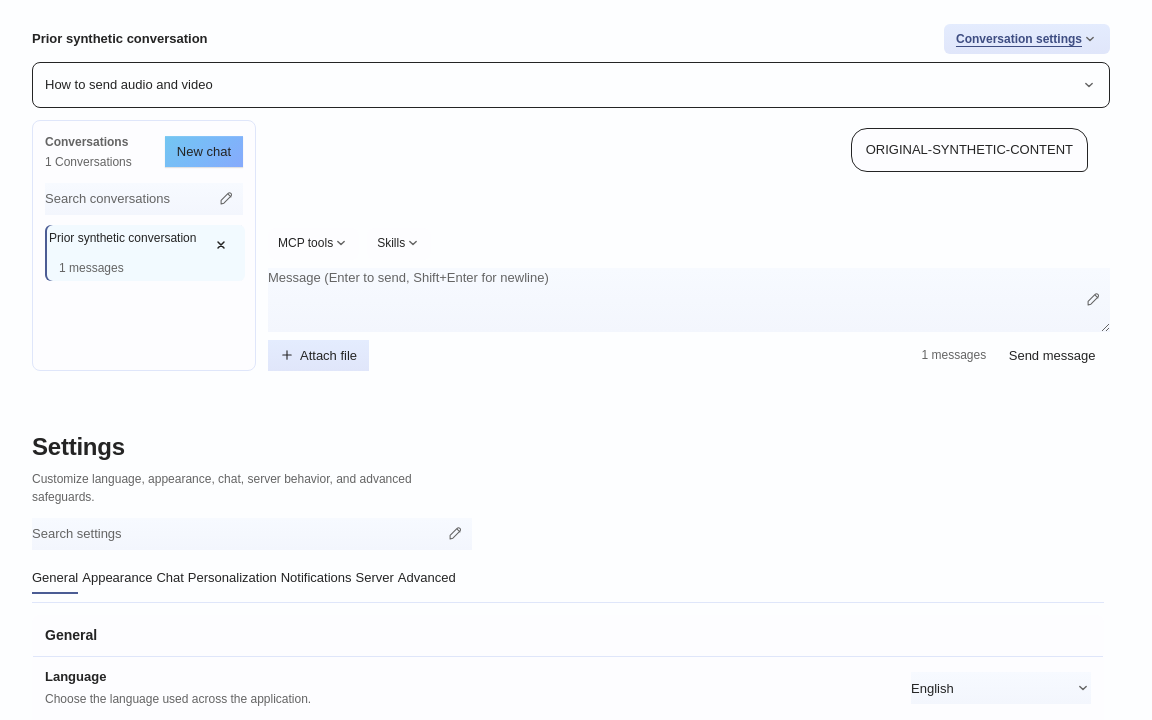
it: waits for an older pending save before removing every persisted copy
What coordinates should you click on to do the following:
click the tab "Advanced"
I would click on:
 (427, 578)
Its box is [398, 562, 456, 594].
(page scrolled)
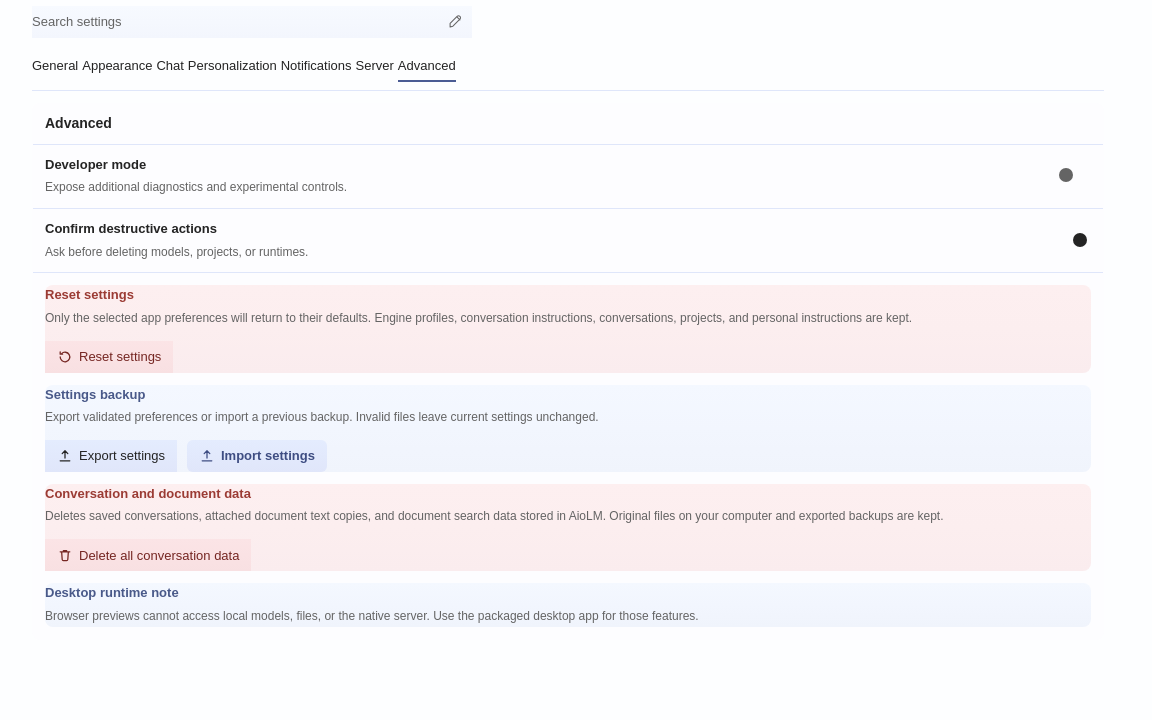
What coordinates should you click on to do the following:
click the button "Delete all conversation data"
I would click on:
 (148, 555)
Its box is [45, 539, 251, 571].
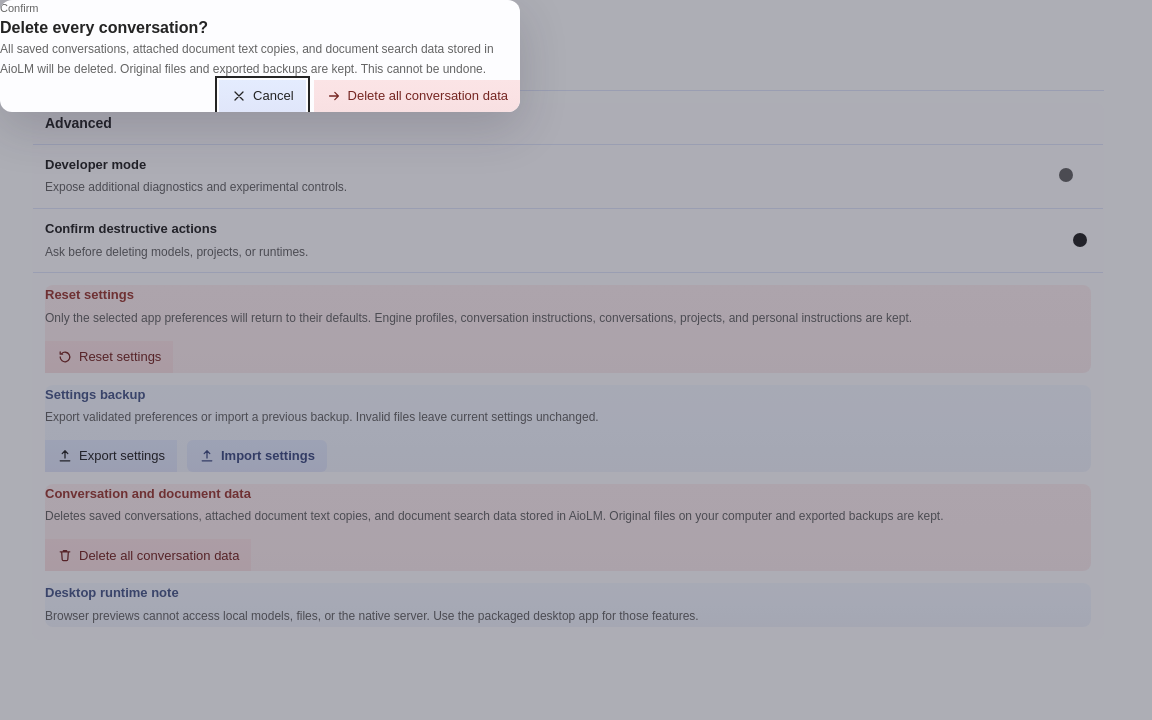
What coordinates should you click on to do the following:
click the button "Delete all conversation data"
I would click on:
 (417, 96)
Its box is [314, 80, 520, 112].
(page scrolled)
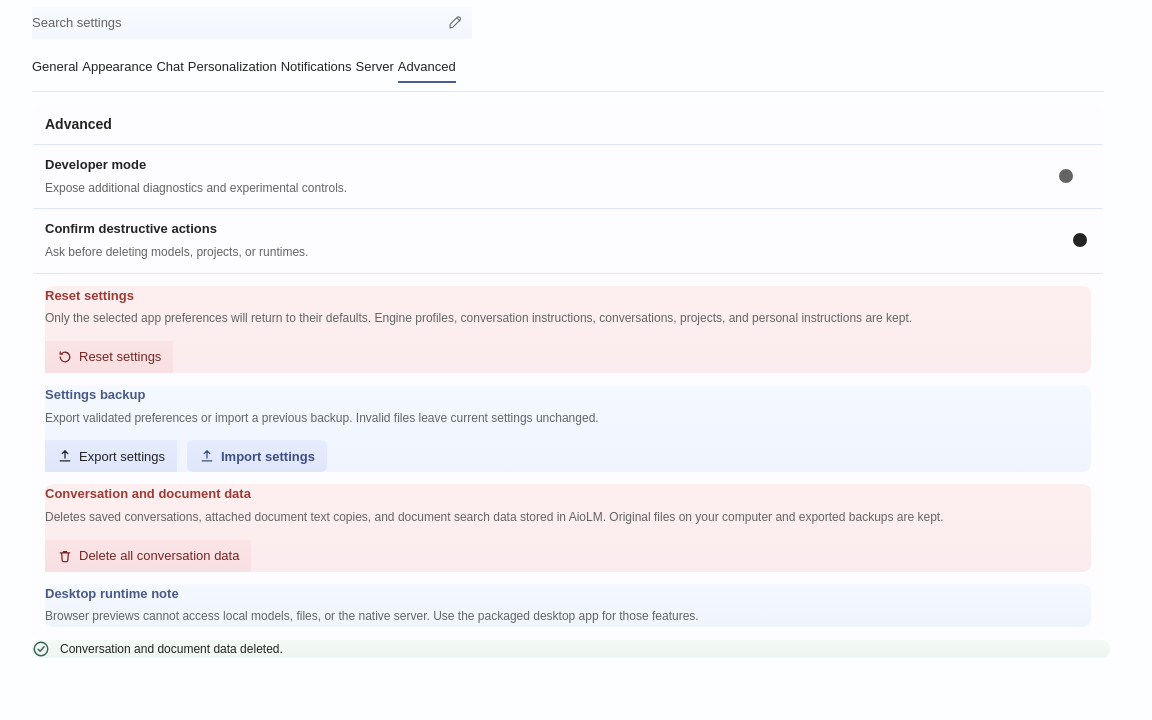
Expected: the text "Conversation and document data deleted." is shown, [60, 642, 283, 656]
